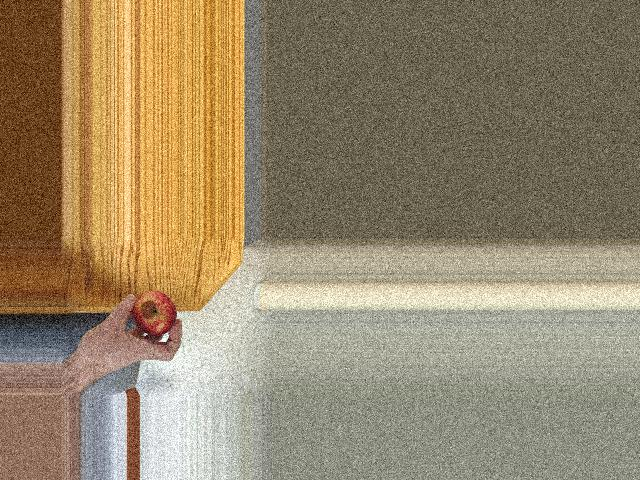apple: (124, 290, 177, 334)
